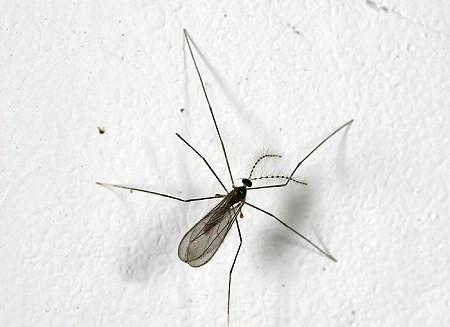Cecidomyiidae: (95, 28, 355, 325)
